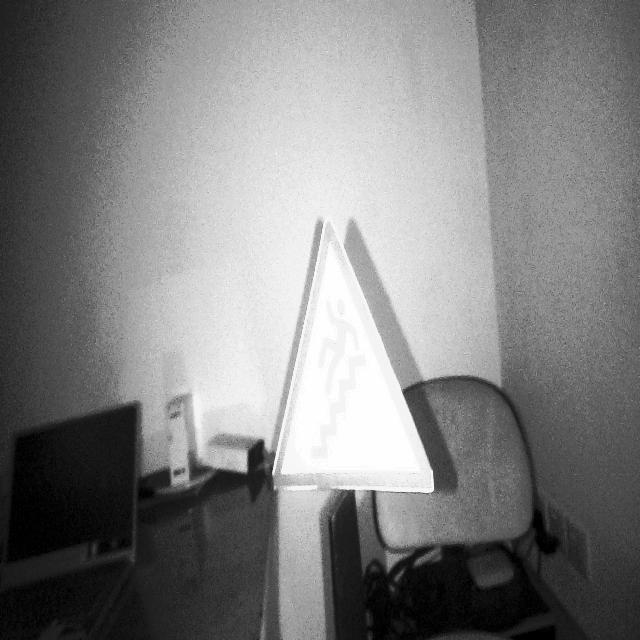Sign: (269, 214, 435, 496)
